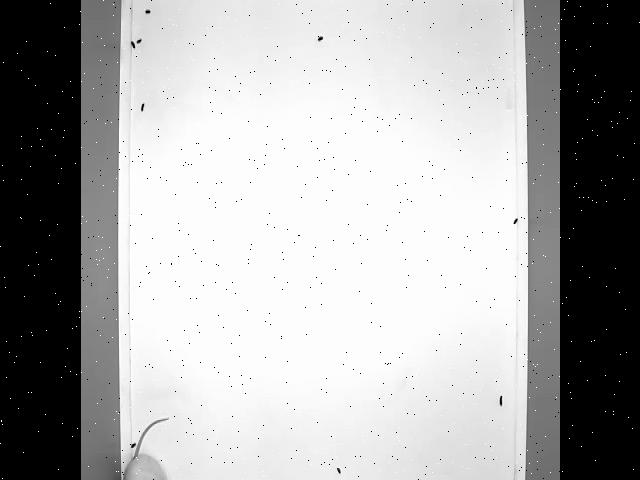Tikus: (120, 414, 174, 480)
